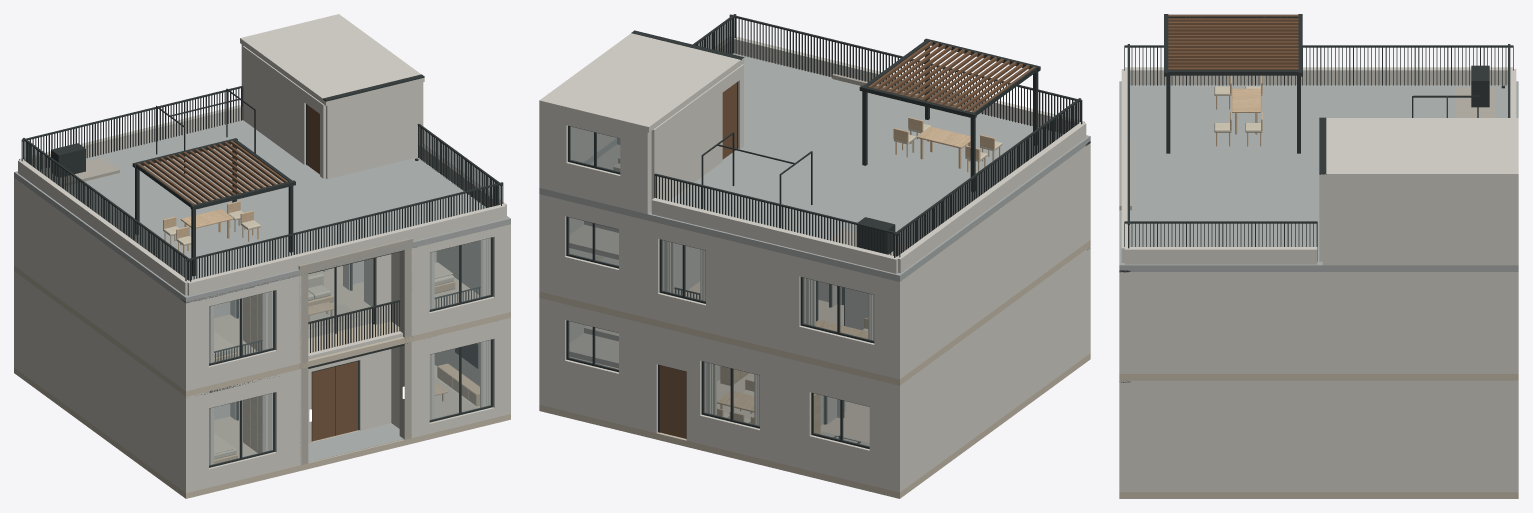
File: house-v7.glb
3 views of the same model, side by side, from view 1: azimuth 30°, elevation 25°; view 2: azimuth 150°, elevation 25°; view 3: azimuth 270°, elevation 25° (orthographic). The views are drawn at different scales.
Visible parts, largest first — view 1: roof/0346/roof deck west, floor1/0006/left exterior, floor2/0072/left exterior, roofhouse/0370/roof stair cap, roofhouse/0369/roof stair front, roof/0347/roof deck front, floor2/0001/upper slab west, roofhouse/0362/roof stair left, roof/0372/terrace front plinth, floor1/0000/ground floor allowance, floor1/0060/W02 glass, floor1/0050/W01 glass (+45 smaller); view 2: roof/0346/roof deck west, floor1/0006/left exterior, floor2/0072/left exterior, roofhouse/0370/roof stair cap, floor2/0077/rear exterior, floor1/0000/ground floor allowance, roofhouse/0362/roof stair left, floor1/0011/rear exterior, roof/0492/terrace rear plinth, floor1/0016/rear exterior, roof/0347/roof deck front, floor2/0080/rear exterior (+48 smaller); view 3: floor1/0007/right exterior, floor2/0073/right exterior, roof/0346/roof deck west, roofhouse/0361/roof stair right, roofhouse/0370/roof stair cap, roof/0347/roof deck front, roof/0577/terrace left plinth, roof/0687/terrace right plinth, floor1/0000/ground floor allowance, floor2/0002/upper slab front, roof/0372/terrace front plinth, floor2/0005/upper slab right strip (+25 smaller).
Boxes of the visible parts, box(x1,y1,x2,y2) form: roof/0346/roof deck west: box(14, 120, 413, 303); floor1/0006/left exterior: box(14, 271, 192, 492); floor2/0072/left exterior: box(14, 178, 192, 390); roofhouse/0370/roof stair cap: box(240, 14, 424, 105); roofhouse/0369/roof stair front: box(326, 83, 418, 179); roof/0347/roof deck front: box(328, 157, 510, 247); floor2/0001/upper slab west: box(14, 265, 413, 396); roofhouse/0362/roof stair left: box(242, 46, 305, 164); roof/0372/terrace front plinth: box(187, 204, 505, 295); floor1/0000/ground floor allowance: box(14, 365, 510, 498); floor1/0060/W02 glass: box(430, 340, 490, 420); floor1/0050/W01 glass: box(209, 393, 273, 465); roof/0346/roof deck west: box(647, 79, 1090, 281); floor1/0006/left exterior: box(892, 246, 1090, 492); floor2/0072/left exterior: box(892, 143, 1090, 379); roofhouse/0370/roof stair cap: box(539, 33, 744, 132); floor2/0077/rear exterior: box(706, 235, 800, 354); floor1/0000/ground floor allowance: box(539, 353, 1090, 498); roofhouse/0362/roof stair left: box(651, 80, 722, 200); floor1/0011/rear exterior: box(760, 351, 811, 470); roof/0492/terrace rear plinth: box(651, 198, 897, 273); floor1/0016/rear exterior: box(619, 317, 657, 433); roof/0347/roof deck front: box(617, 53, 832, 144); floor2/0080/rear exterior: box(619, 213, 659, 320); floor1/0007/right exterior: box(1119, 380, 1518, 492); floor2/0073/right exterior: box(1119, 272, 1518, 373); roof/0346/roof deck west: box(1119, 81, 1518, 210); roofhouse/0361/roof stair right: box(1322, 180, 1509, 265); roofhouse/0370/roof stair cap: box(1319, 118, 1518, 179); roof/0347/roof deck front: box(1119, 210, 1371, 271); roof/0577/terrace left plinth: box(1125, 67, 1512, 84); roof/0687/terrace right plinth: box(1124, 247, 1317, 264); floor1/0000/ground floor allowance: box(1119, 492, 1518, 498); floor2/0002/upper slab front: box(1119, 374, 1360, 380); roof/0372/terrace front plinth: box(1121, 69, 1127, 262); floor2/0005/upper slab right strip: box(1361, 374, 1509, 380).
Size of the model in its own units: 12 by 9.89 by 11.
16 materials, 1 textured.
